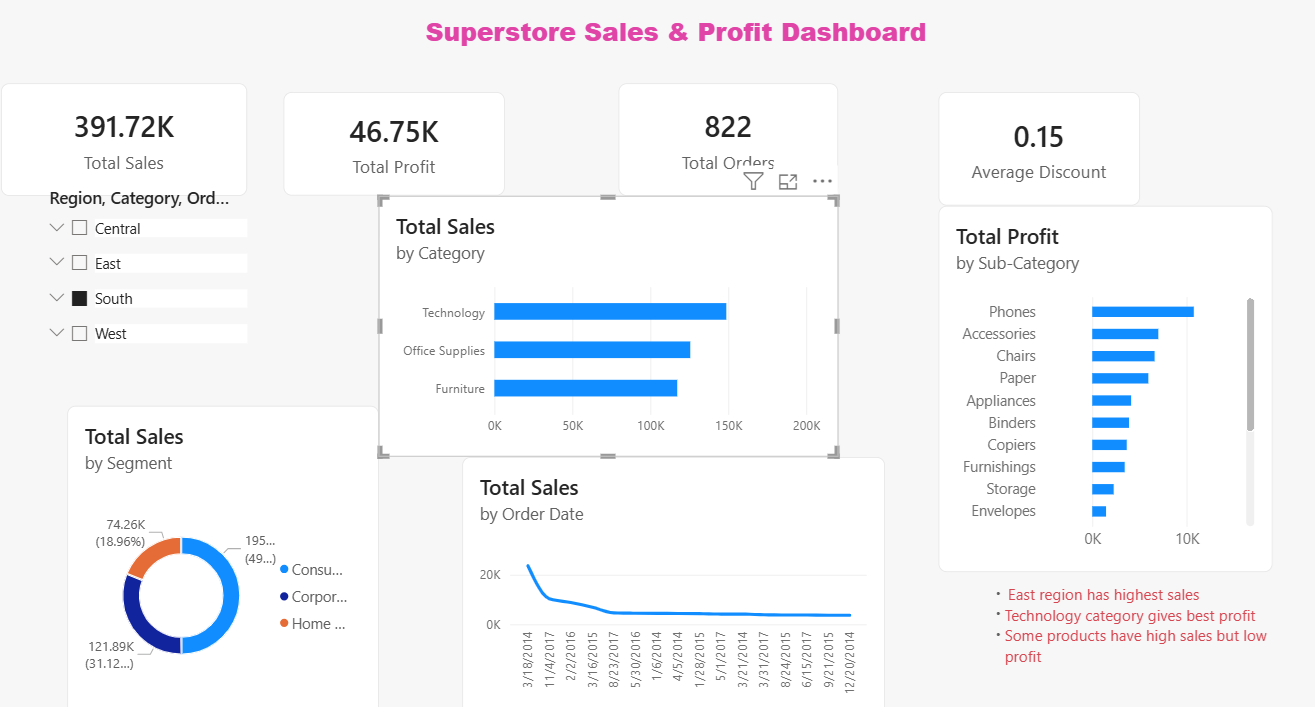

The page's visual inventory and layout, read from the dashboard file:
{"tool":"powerbi","page":{"name":"Page 1","canvas":[1280,720],"ordinal":0},"visuals":[{"type":"card","fields":{"Values":["Products _Sales.Total Sales"]},"box":[9.7,92.9,237.7,108.6],"z":0},{"type":"card","fields":{"Values":["Products _Sales.Total Orders"]},"box":[605.6,92.9,212.3,108.6],"z":1000},{"type":"card","fields":{"Values":["Products _Sales.Total Profit"]},"box":[282.3,101.3,213.5,100.1],"z":2000},{"type":"card","fields":{"Values":["Products _Sales.Average Discount"]},"box":[914.5,101.3,194.2,109.8],"z":3000},{"type":"lineChart","fields":{"Category":["Products _Sales.Order Date"],"Y":["Products _Sales.Total Sales"]},"box":[454.8,453.6,407.8,266.6],"z":4000},{"type":"clusteredBarChart","fields":{"Y":["Products _Sales.Total Sales"],"Category":["Products _Sales.Category"]},"box":[374,201.5,444,252.1],"z":5000},{"type":"clusteredBarChart","fields":{"Category":["Products _Sales.Sub-Category"],"Y":["Products _Sales.Total Profit"]},"box":[914.5,211.1,322.1,353.5],"z":6000},{"type":"donutChart","fields":{"Category":["Products _Sales.Segment"],"Y":["Products _Sales.Total Sales"]},"box":[73.6,404.2,300.4,302.8],"z":7000},{"type":"slicer","fields":{"Values":["Products _Sales.Region","Products _Sales.Category","Products _Sales.Order Date","Products _Sales.Segment"]},"box":[48,192.1,199,193.5],"z":8000},{"type":"textbox","box":[319.7,25.3,682.8,53.1],"z":8001},{"type":"textbox","box":[960.3,575.5,276.3,107.4],"z":8002}]}

Visuals, with their boxes on the page's 1280x720 design canvas (x1, y1, x2, y2). These are canvas units, not pixel positions in the 1315x707 screenshot, which may show the page scaled, cropped or inside an application window:
card - Products _Sales.Total Sales: 10/93/247/202
card - Products _Sales.Total Orders: 606/93/818/202
card - Products _Sales.Total Profit: 282/101/496/201
card - Products _Sales.Average Discount: 914/101/1109/211
lineChart - Products _Sales.Order Date x Products _Sales.Total Sales: 455/454/863/720
clusteredBarChart - Products _Sales.Total Sales x Products _Sales.Category: 374/202/818/454
clusteredBarChart - Products _Sales.Sub-Category x Products _Sales.Total Profit: 914/211/1237/565
donutChart - Products _Sales.Segment x Products _Sales.Total Sales: 74/404/374/707
slicer - Products _Sales.Region x Products _Sales.Category: 48/192/247/386
textbox: 320/25/1002/78
textbox: 960/576/1237/683
